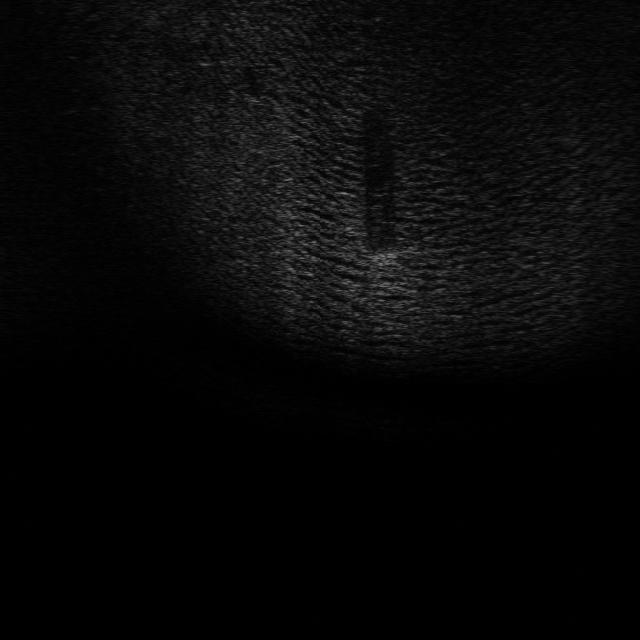cube: (366, 245, 403, 269)
